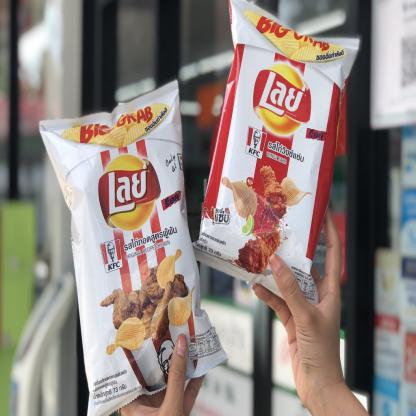potatochip: (32, 75, 230, 416), (188, 0, 365, 314)
